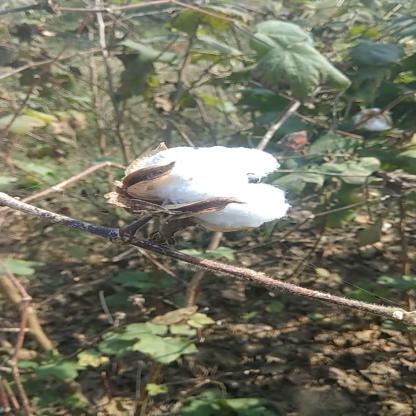cotton_ready: (96, 128, 290, 284)
